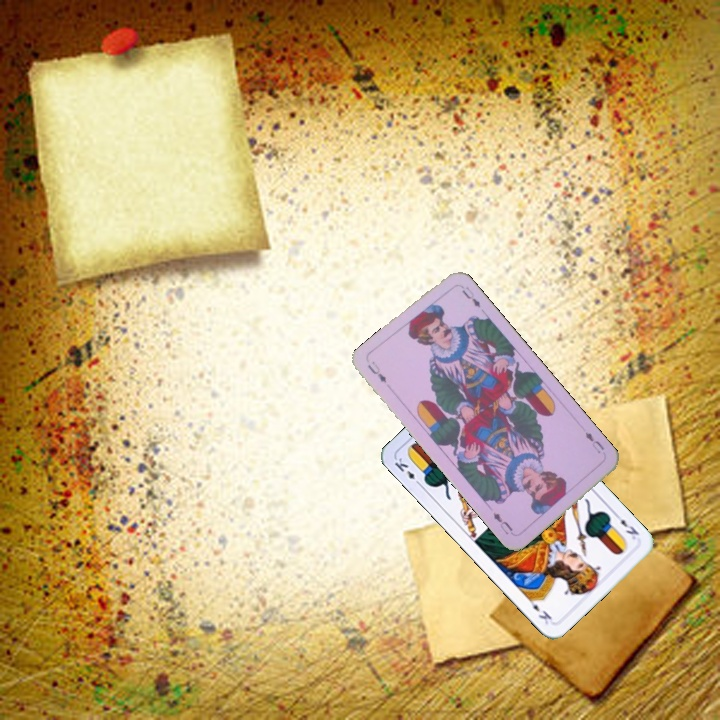EK: (390, 453, 424, 489), (610, 509, 642, 542)
EU: (363, 357, 389, 386), (581, 428, 607, 456)
